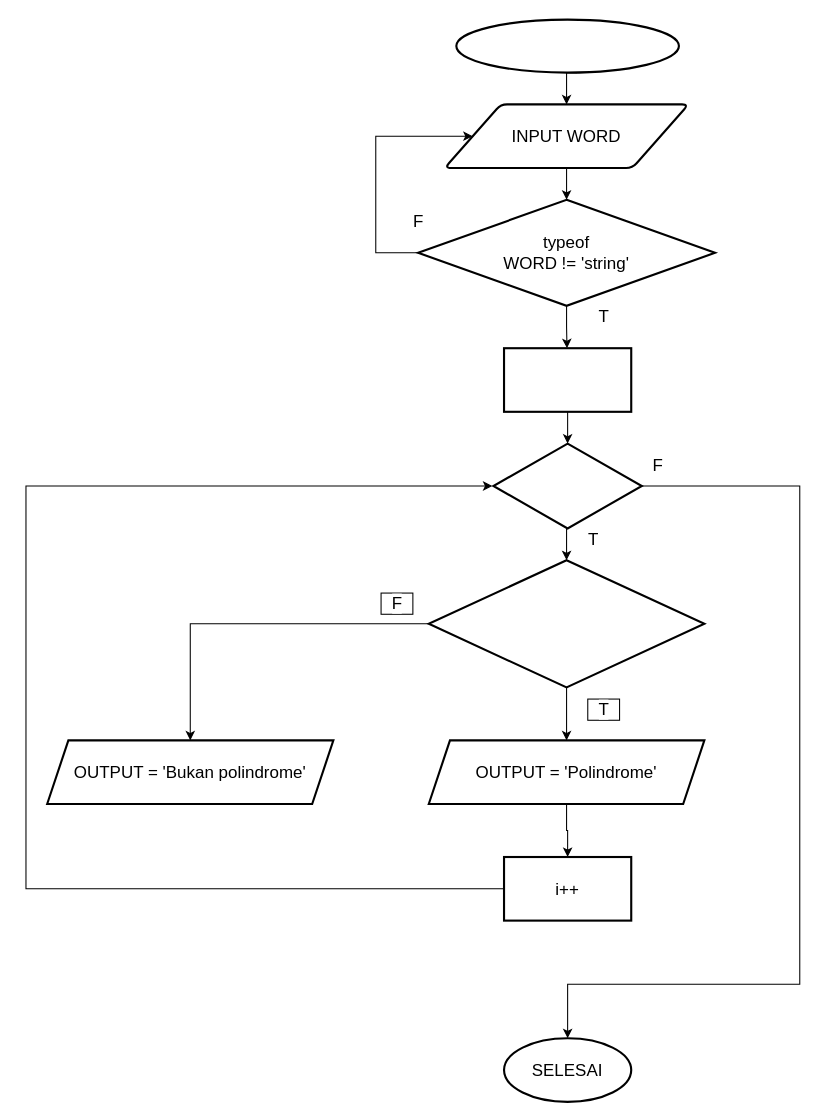
This 827x1120 diagram has some shape labels left out. The shapes that lost their labels are listed below. From the top down, each one's centre as x and y in pixels, then its label:
[567,45]: MULAI
[567,379]: i = 0
[567,485]: i < word.length
[566,623]: word[i] !== word[word.length - 1 - i]
